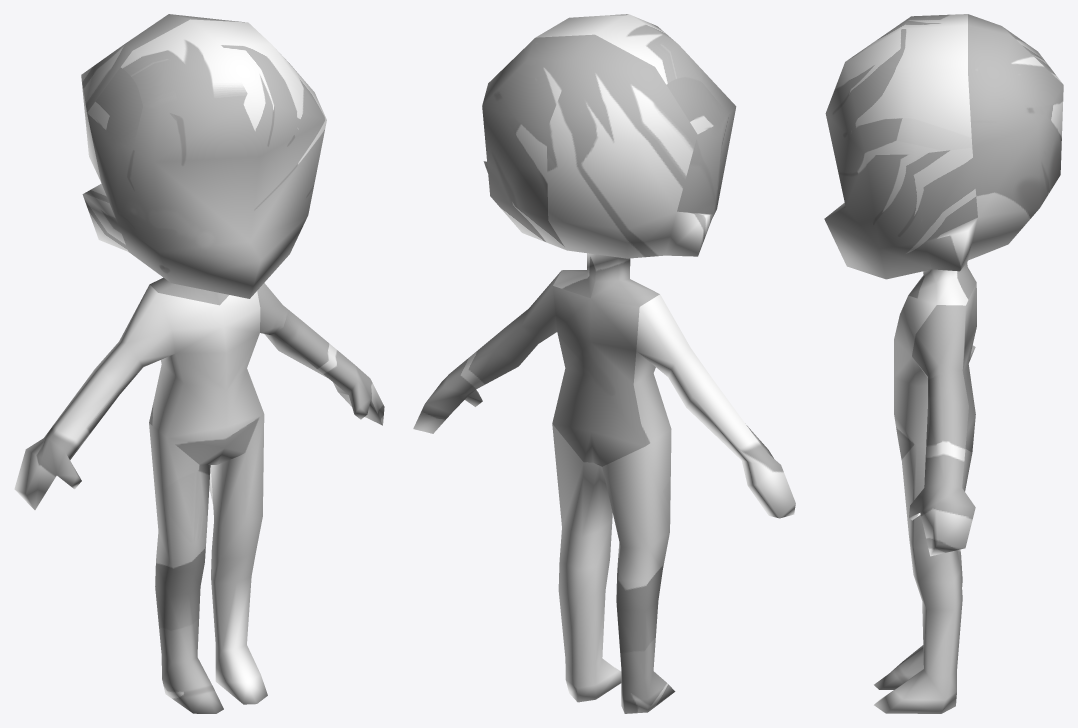
File: npc.FBX
3 renders of one model, left to right at view 1: azimuth 30°, elevation 25°; view 2: azimuth 150°, elevation 25°; view 3: azimuth 270°, elevation 25°, orthographic. The views are drawn at different scales.
Parts seen in each view (by area): view 1: Box001; view 2: Box001; view 3: Box001.
Part boxes in pixels (x1,y1,x2,y2): Box001: [14, 14, 384, 713]; Box001: [413, 14, 795, 713]; Box001: [824, 14, 1063, 713].
Bounding box in the file's own units: 86.09 × 150 × 48.75.
